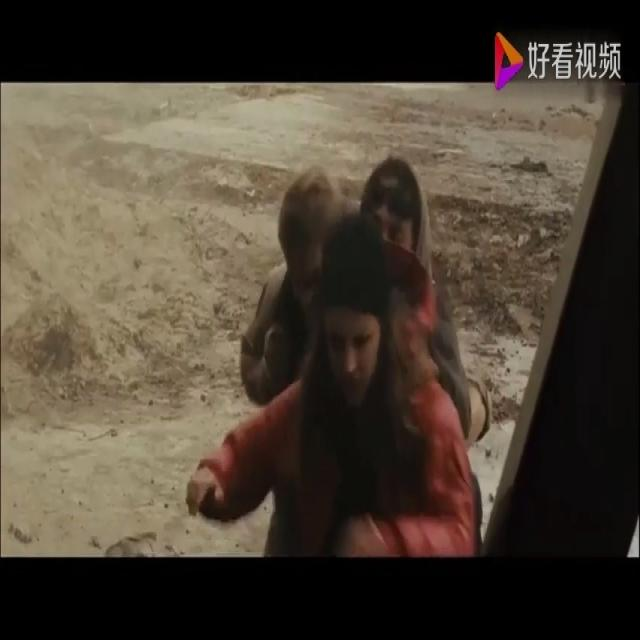non-fight: (136, 109, 541, 555)
